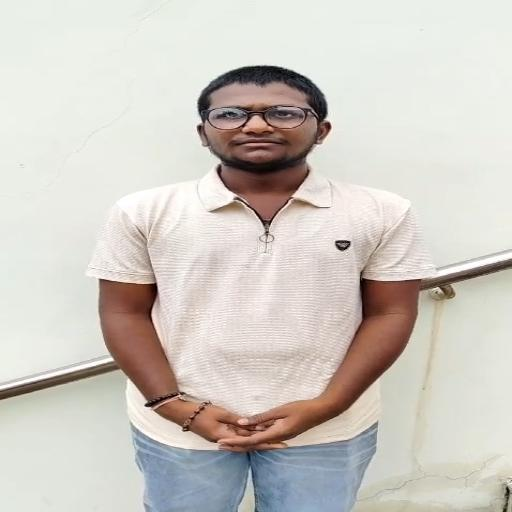employee-detectio-system: (36, 62, 490, 360)
